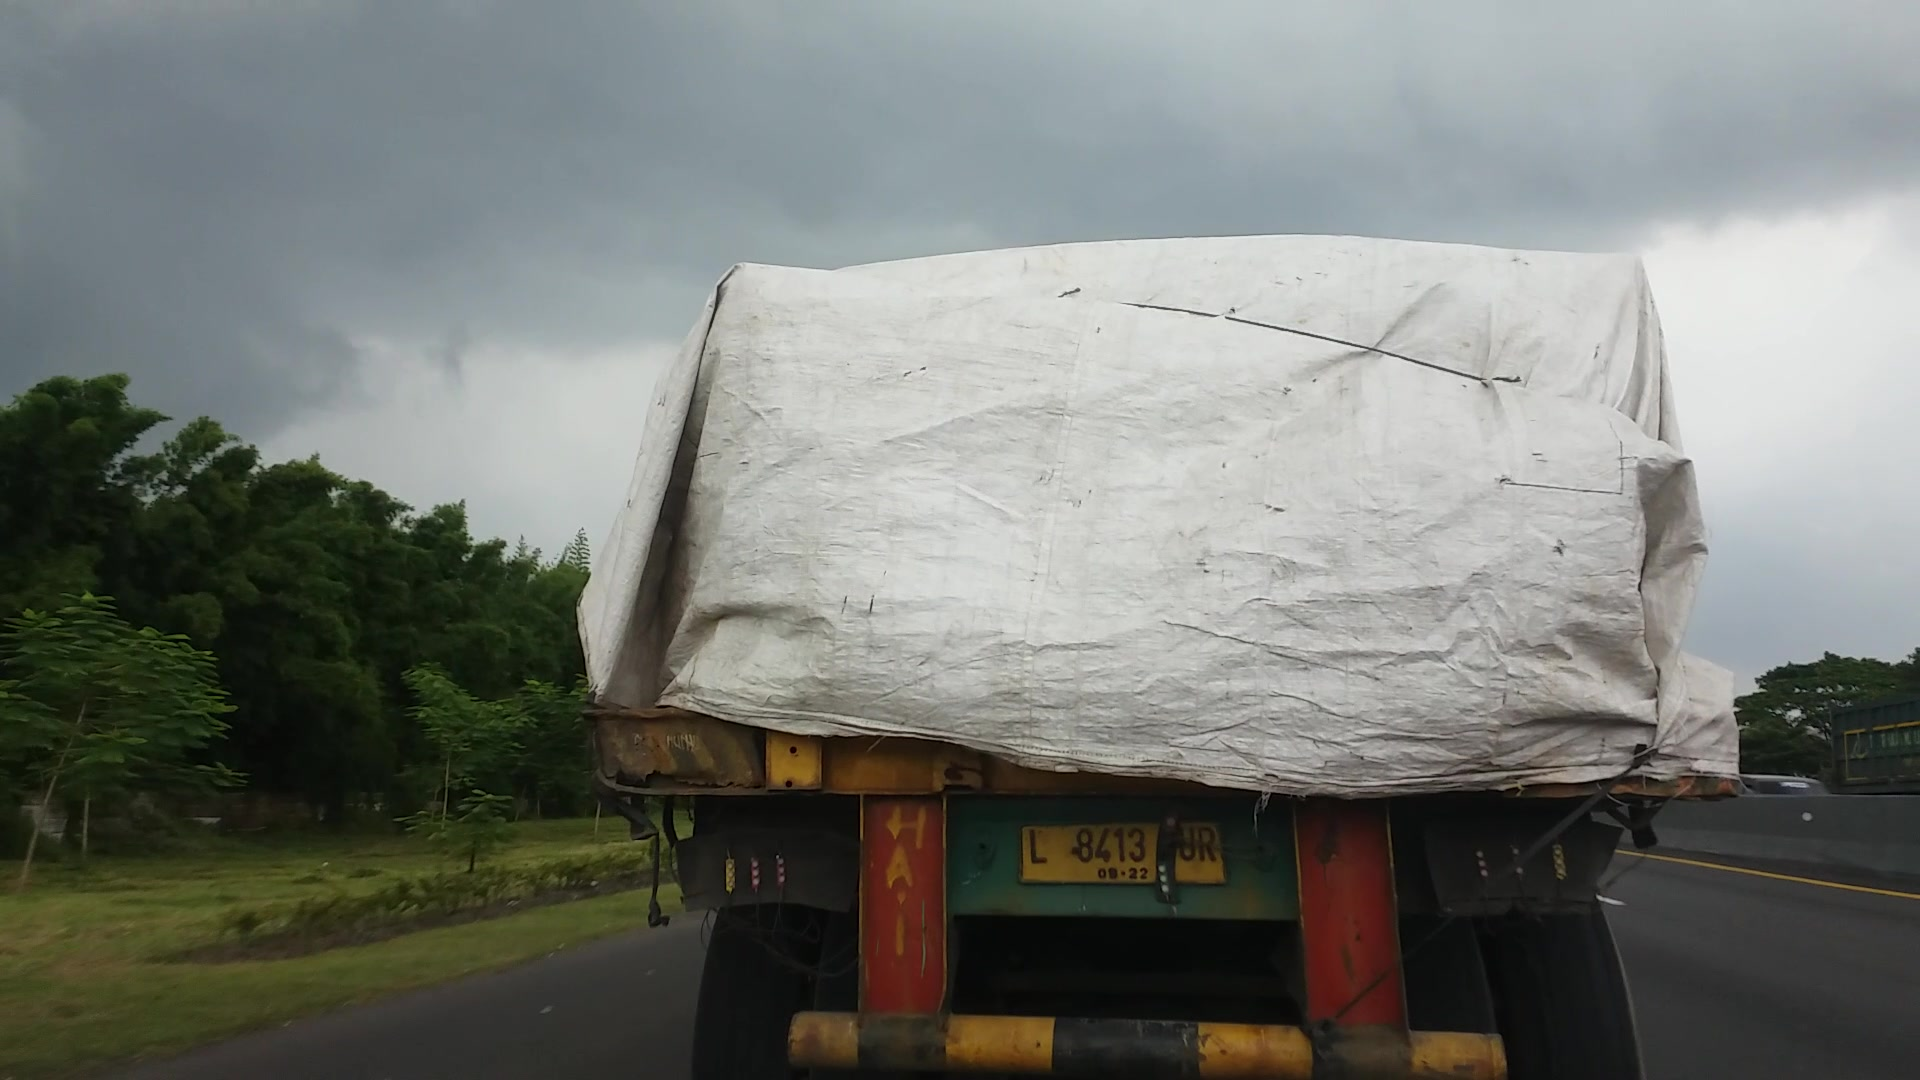plate_positive: (1019, 822, 1226, 887)
